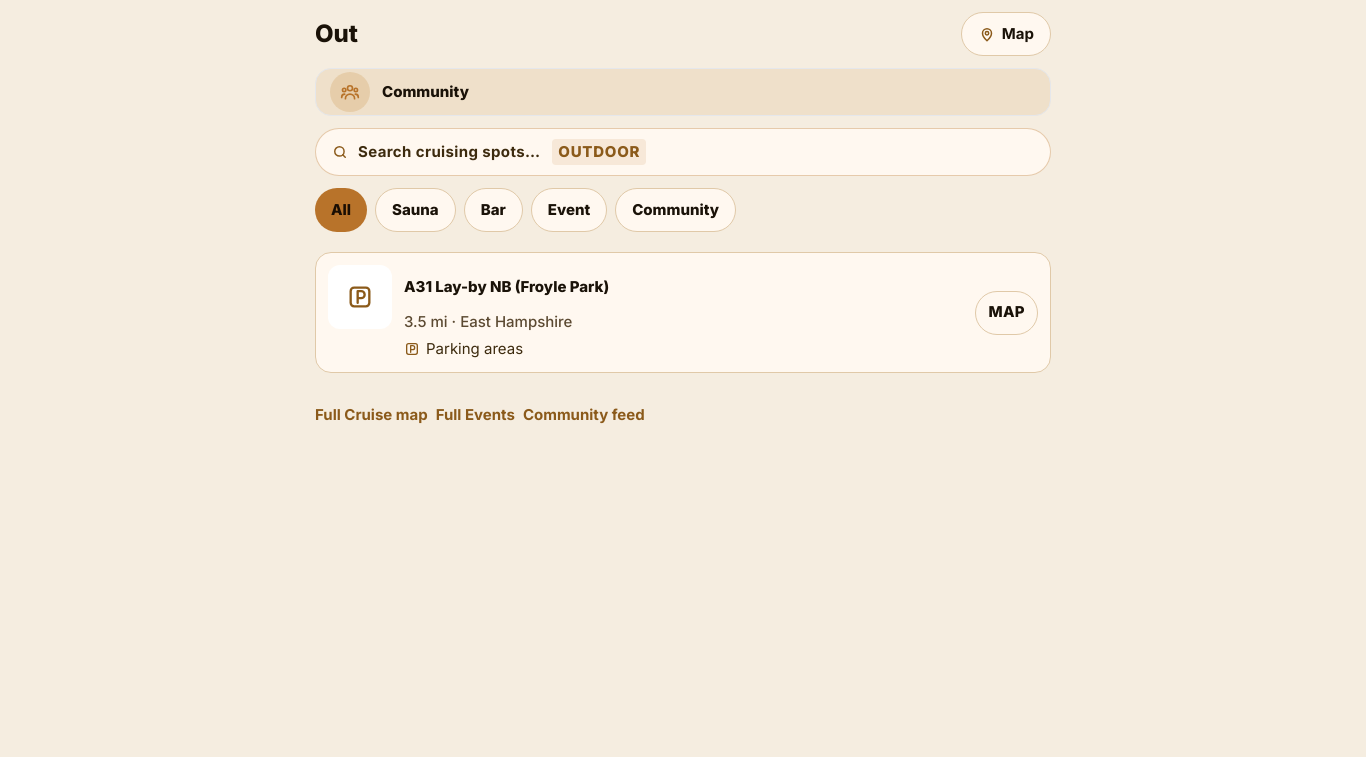
Test: Out spot card opens the spot sheet › anonymous check-in uses the same API and updates the sheet
The width and height of the screenshot is (1366, 757).
Click the button "A31 Lay-by NB (Froyle Park)". click: (507, 286)
box: x1=404 y1=265 x2=963 y2=309
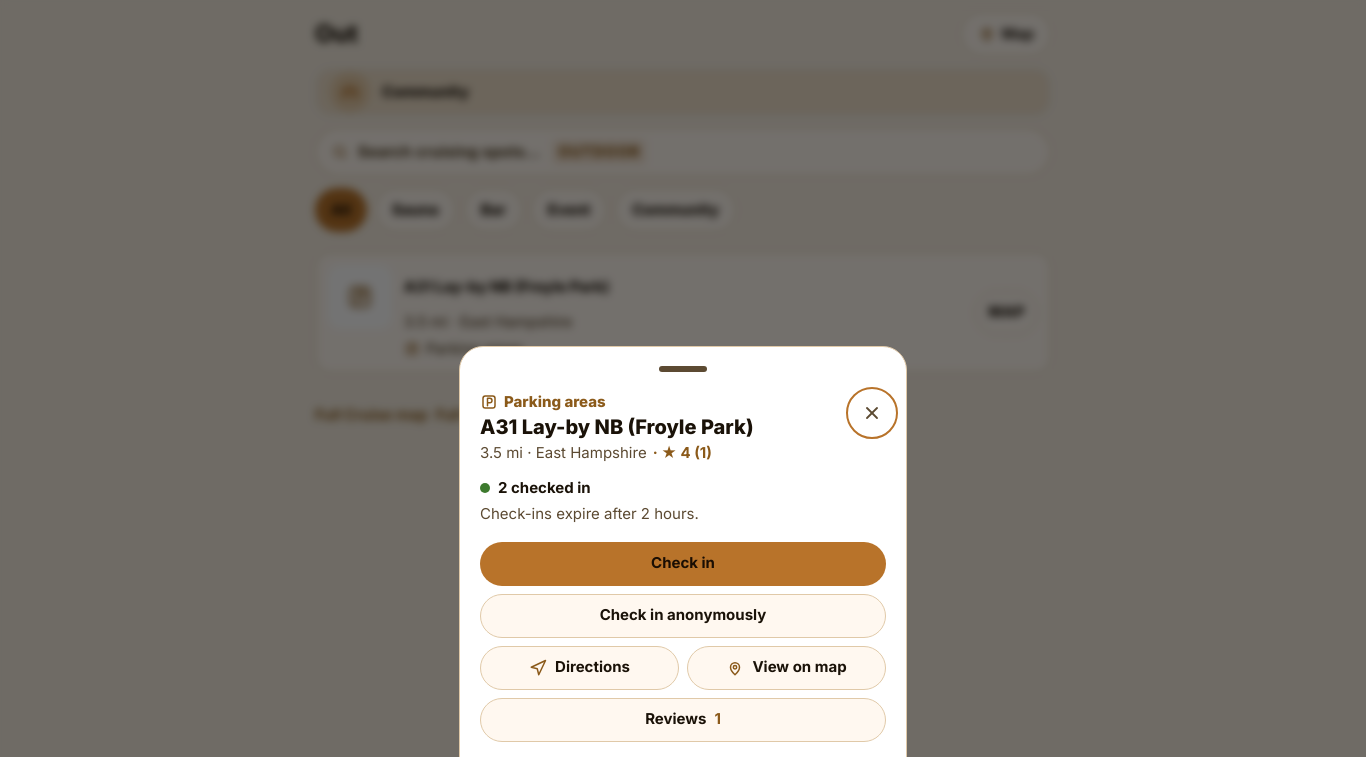
Click the button with test id "hotspot-sheet-checkin-anon". click: (683, 616)
box: x1=480 y1=594 x2=886 y2=638
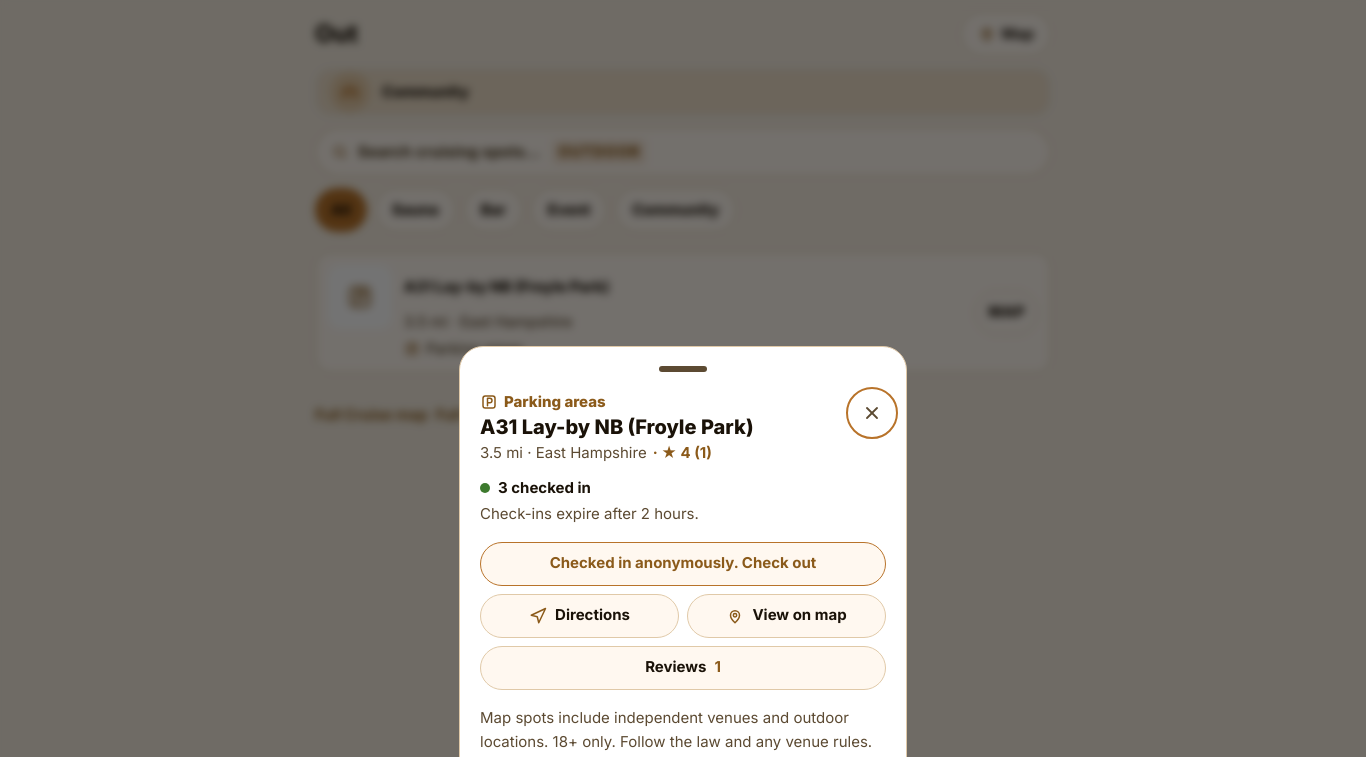
Now the button with test id "hotspot-sheet-checkout" shows "Checked in anonymously", box x1=480 y1=542 x2=886 y2=586
